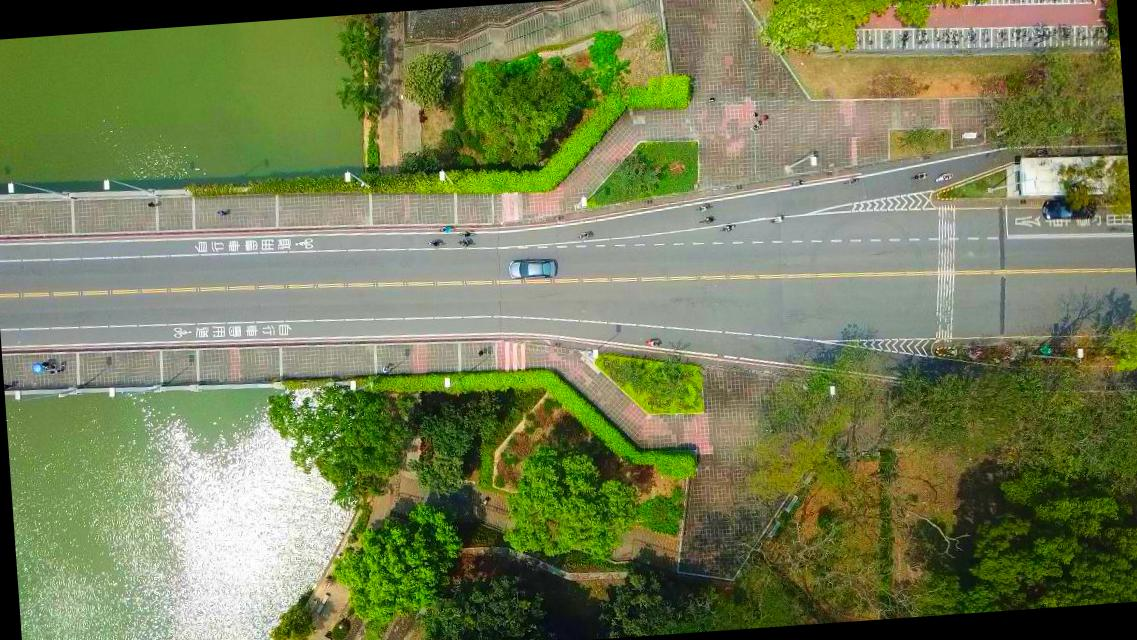vehicle: (1041, 196, 1096, 223), (507, 256, 558, 281)
